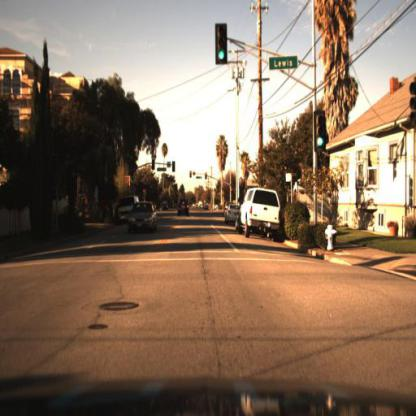car: (238, 185, 282, 238), (129, 201, 160, 239), (172, 195, 193, 221), (120, 194, 138, 222), (176, 197, 192, 220)
trafficLight-Green: (313, 111, 328, 153), (216, 18, 228, 63), (217, 29, 228, 75)
